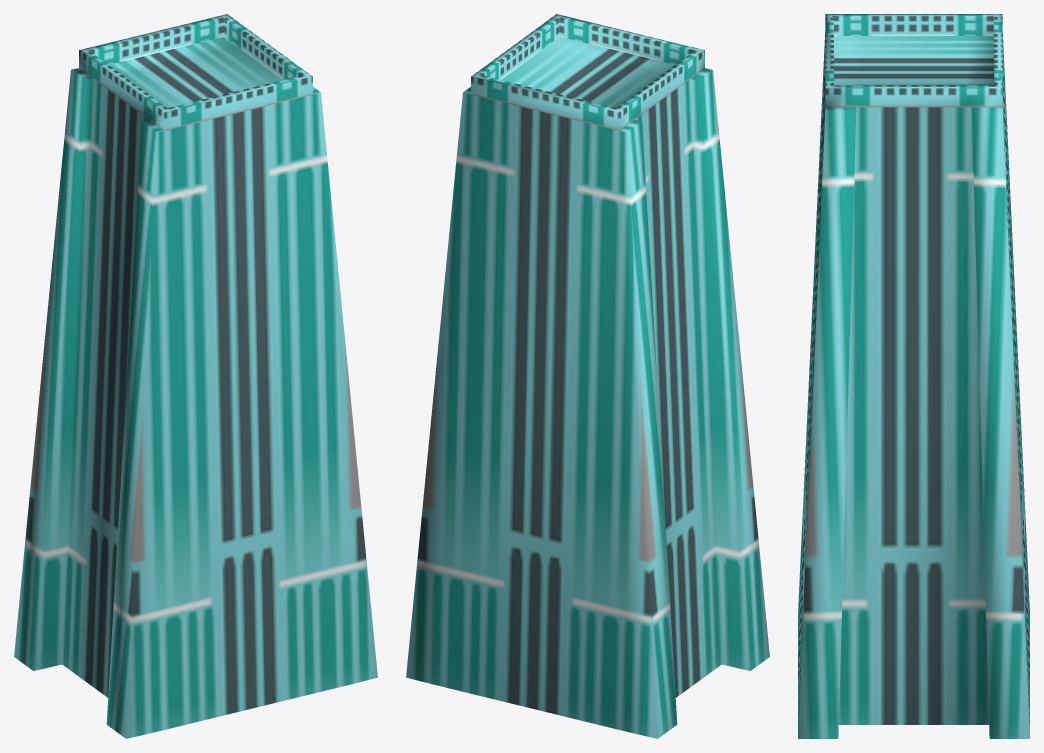
File: Building1.FBX
3 renders of one model, left to right at view 1: azimuth 30°, elevation 25°; view 2: azimuth 150°, elevation 25°; view 3: azimuth 270°, elevation 25°, orthographic. The views are drawn at different scales.
Visible parts, largest first — view 1: Building03; view 2: Building03; view 3: Building03.
Boxes of the visible parts, x1,y1,x2,y2 form: Building03: [14, 14, 377, 738]; Building03: [406, 14, 769, 738]; Building03: [798, 14, 1029, 738].
Size of the model in its own units: 16.03 by 36.74 by 12.37.
